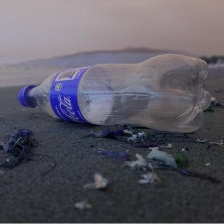bottle: (13, 51, 218, 137)
